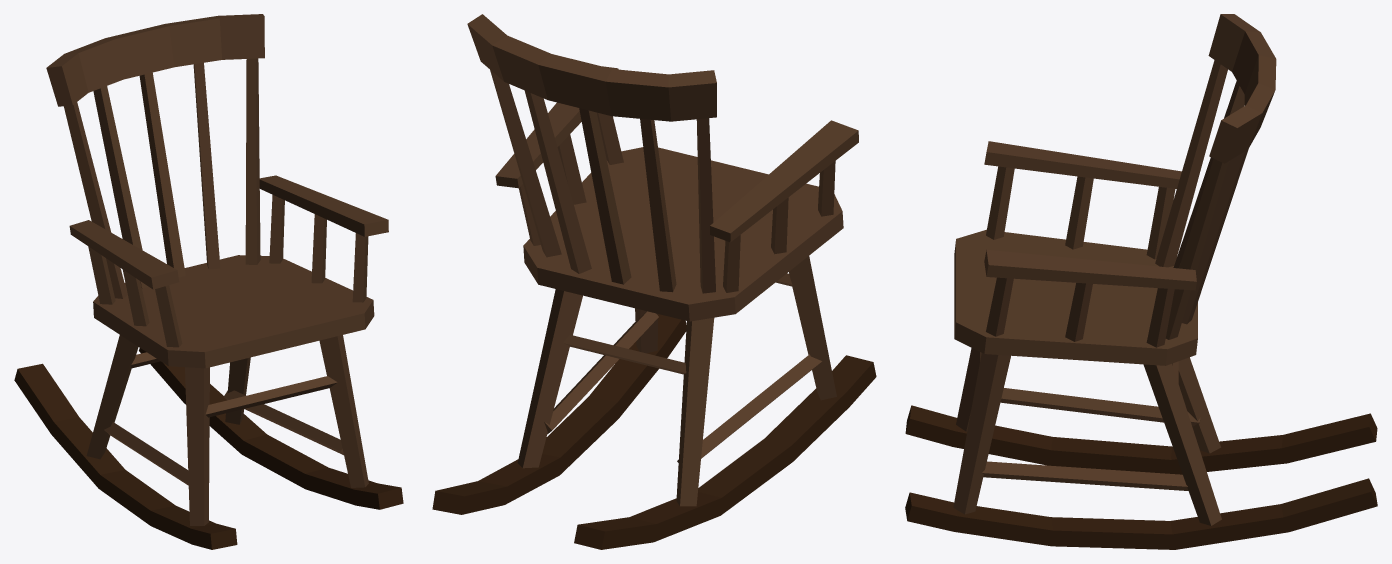
Rendered from Chair 2.glb.
3 renders of one model, left to right at view 1: azimuth 30°, elevation 25°; view 2: azimuth 150°, elevation 25°; view 3: azimuth 270°, elevation 25°, orthographic. The views are drawn at different scales.
Visible parts, largest first — view 1: Chair 2; view 2: Chair 2; view 3: Chair 2.
Part boxes in pixels (box(x1,y1,x2,y2)): Chair 2: box(14, 14, 403, 549); Chair 2: box(432, 14, 876, 549); Chair 2: box(905, 14, 1377, 549).
Size of what is drawn, in the model's own units: 0.7217 by 1.2 by 1.16.
1 material, 1 textured.
